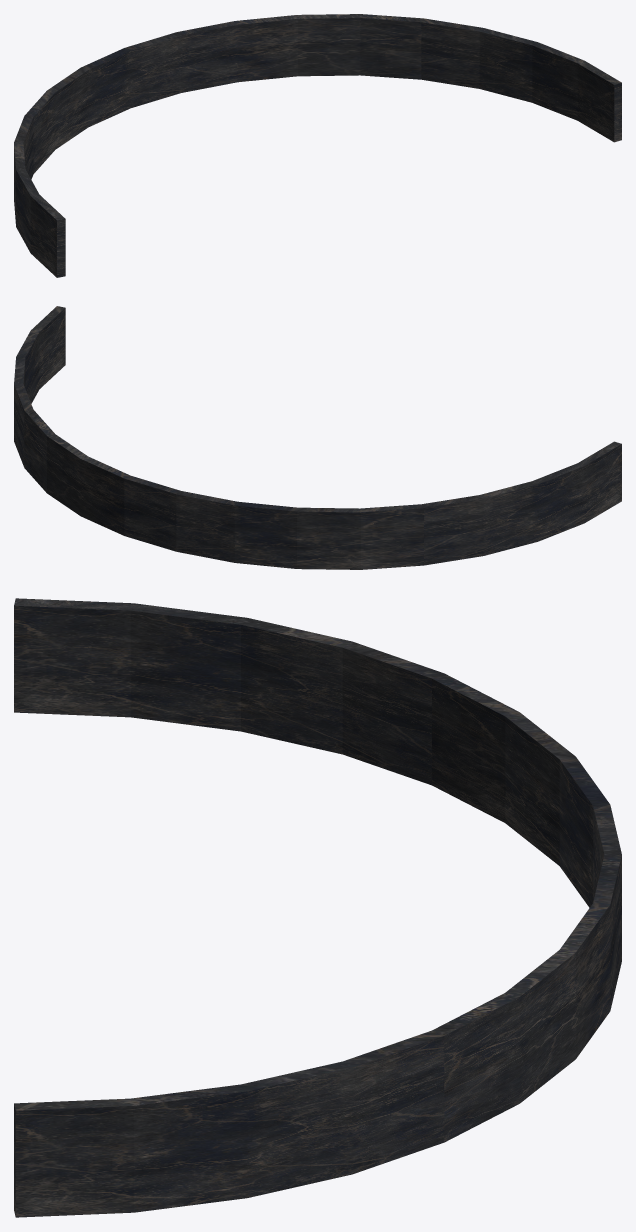
File: openingDoor.glb
3 renders of one model, top to bottom at view 1: azimuth 30°, elevation 25°; view 2: azimuth 150°, elevation 25°; view 3: azimuth 270°, elevation 25°, orthographic. The views are drawn at different scales.
Visible parts, largest first — view 1: Cylinder, Cylinder.001; view 2: Cylinder, Cylinder.001; view 3: Cylinder, Cylinder.001.
Part boxes in pixels (x1,y1,x2,y2): Cylinder: (14,15,621,277); Cylinder.001: (297,14,423,79); Cylinder: (14,306,621,569); Cylinder.001: (24,409,87,515); Cylinder: (14,598,621,1217); Cylinder.001: (432,950,575,1142).
Size of the model in its own units: 48.83 by 4.75 by 24.48.
1 material, 1 textured.
